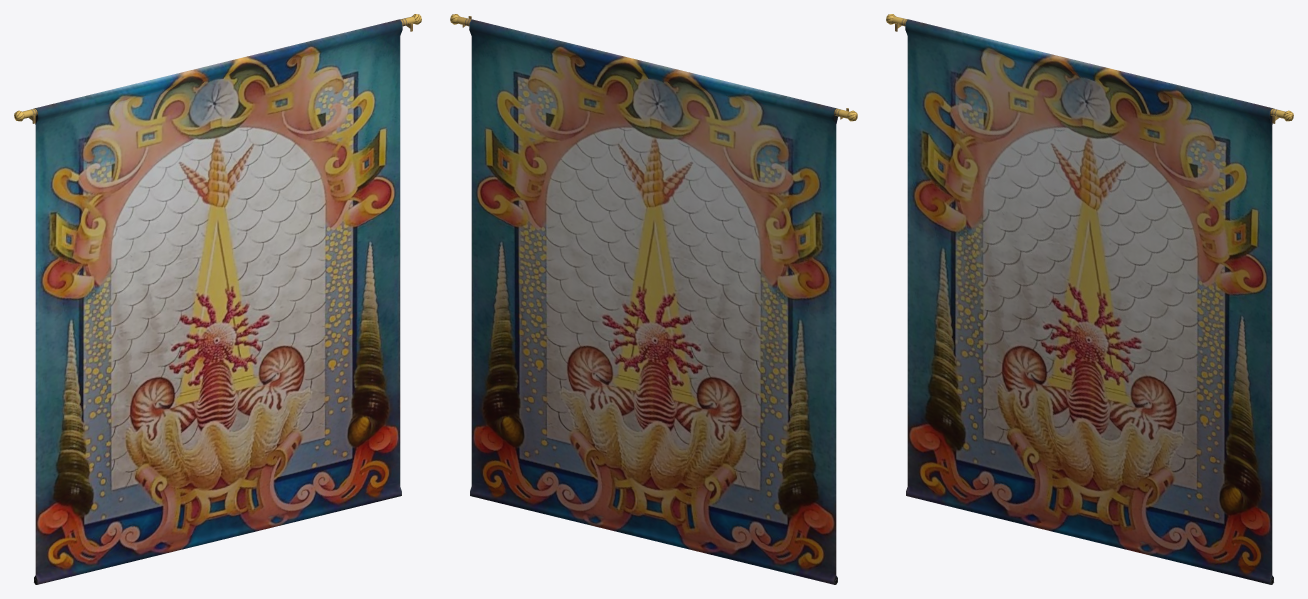
Rendered from ScrollPainting02.fbx.
The picture shows the model from 3 angles, left to right: view 1: azimuth 30°, elevation 25°; view 2: azimuth 150°, elevation 25°; view 3: azimuth 330°, elevation 25°; orthographic projection.
Visible parts, largest first — view 1: ScrollPainting02; view 2: ScrollPainting02; view 3: ScrollPainting02.
Part boxes in pixels (x1,y1,x2,y2): ScrollPainting02: (14,14,421,584); ScrollPainting02: (450,14,857,584); ScrollPainting02: (886,14,1293,584).
Size of the model in its own units: 312 by 351 by 10.5.
